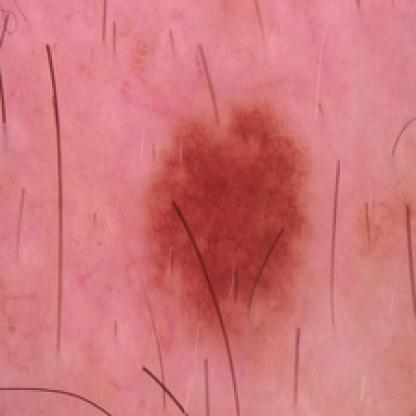benign: (148, 124, 304, 338)
